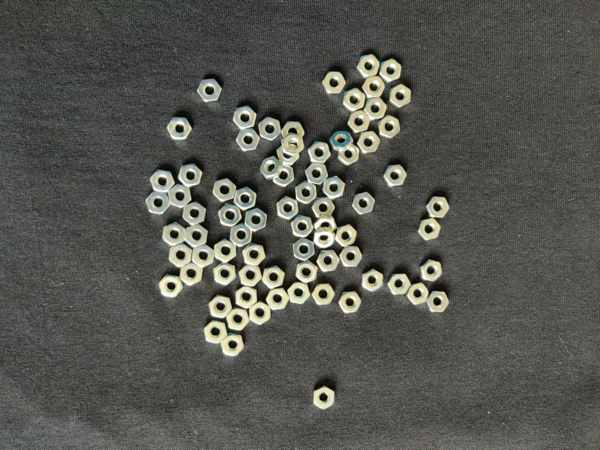nut: (150, 169, 176, 193), (322, 71, 347, 95), (185, 224, 209, 249), (209, 295, 233, 320), (167, 117, 193, 140), (236, 128, 260, 152), (260, 156, 284, 180), (168, 184, 192, 208), (213, 179, 237, 203), (180, 262, 204, 286), (197, 79, 222, 102), (178, 164, 203, 187), (146, 191, 171, 214), (222, 333, 245, 358), (357, 54, 380, 78), (362, 76, 386, 99), (378, 115, 401, 139), (348, 110, 371, 134), (233, 106, 257, 129), (277, 143, 301, 166), (417, 218, 441, 241), (183, 202, 206, 226), (163, 222, 186, 246), (234, 187, 257, 211), (214, 239, 237, 263), (287, 282, 311, 305), (169, 244, 193, 267), (159, 275, 183, 298), (262, 266, 286, 289), (204, 321, 228, 344), (380, 58, 402, 83), (230, 223, 252, 248), (357, 131, 380, 154), (306, 163, 329, 186), (219, 204, 242, 227), (339, 291, 362, 314), (243, 243, 266, 266), (259, 117, 281, 141), (426, 196, 450, 218), (277, 196, 299, 220), (245, 208, 267, 232), (312, 227, 336, 249), (293, 238, 315, 262), (317, 251, 341, 273), (266, 288, 290, 310), (249, 301, 271, 325), (314, 386, 335, 411), (389, 85, 411, 108), (364, 98, 387, 120), (282, 122, 305, 144), (283, 132, 305, 155), (273, 164, 295, 187), (308, 141, 331, 163), (384, 165, 407, 187), (353, 192, 375, 215), (420, 259, 442, 282), (323, 176, 345, 199), (335, 225, 358, 247), (406, 283, 429, 305), (362, 269, 384, 292), (214, 263, 236, 286), (239, 265, 262, 287), (227, 309, 250, 331), (296, 181, 317, 205), (193, 244, 214, 268), (338, 144, 360, 166), (292, 215, 314, 237), (340, 246, 362, 268), (296, 261, 318, 283), (344, 88, 365, 111), (312, 197, 335, 218), (388, 274, 411, 295), (312, 284, 335, 305), (236, 286, 257, 309), (427, 291, 449, 312), (330, 131, 353, 151), (314, 215, 338, 234)
